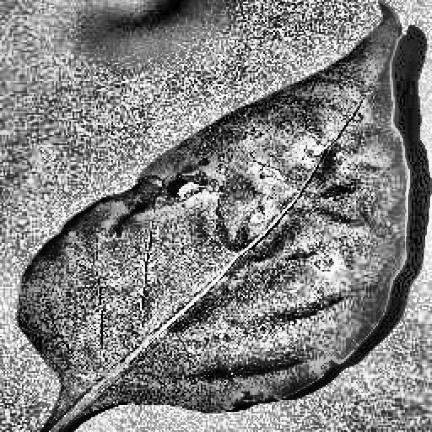leaf: (19, 2, 408, 430)
